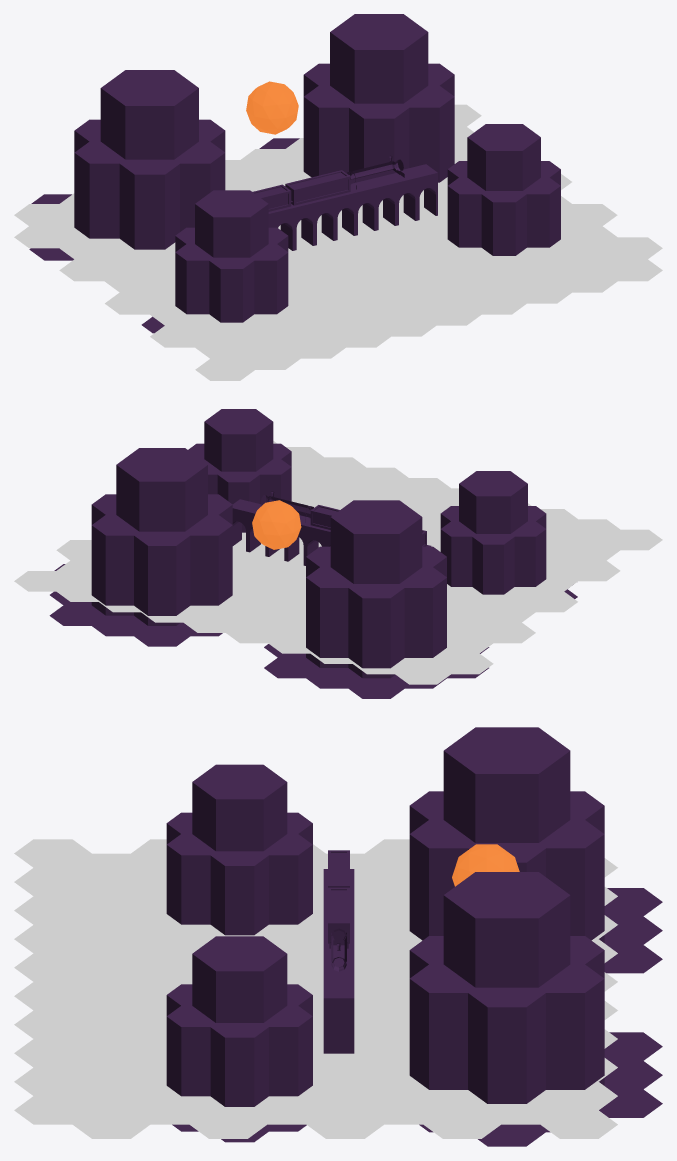
Rendered from title_backdrop.glb.
The picture shows the model from 3 angles, top to bottom: view 1: azimuth 30°, elevation 25°; view 2: azimuth 150°, elevation 25°; view 3: azimuth 270°, elevation 25°; orthographic projection. The views are drawn at different scales.
Parts seen in each view (by area): view 1: Grid, Backdrop, Mountain, Bridge, Sun, Carriage, Train; view 2: Backdrop, Grid, Mountain, Bridge, Sun, Carriage, Train; view 3: Grid, Backdrop, Mountain, Bridge, Carriage, Sun, Train.
Part boxes in pixels (x1,y1,x2,y2): Grid: (14,104,662,380); Backdrop: (29,14,454,260); Mountain: (141,124,560,333); Bridge: (268,164,437,250); Sun: (246,81,298,134); Carriage: (253,170,350,211); Train: (347,156,404,190); Backdrop: (49,448,489,698); Grid: (14,441,662,684); Mountain: (188,409,577,598); Bridge: (232,499,431,565); Sun: (252,500,301,549); Carriage: (310,505,426,546); Train: (260,491,313,523); Grid: (14,839,617,1138); Backdrop: (409,727,662,1146); Mountain: (166,764,312,1142); Bridge: (323,869,354,1053); Carriage: (328,850,349,943); Sun: (452,844,519,886); Train: (329,925,348,977).
Size of the model in its own units: 46.42 by 13 by 42.49.
